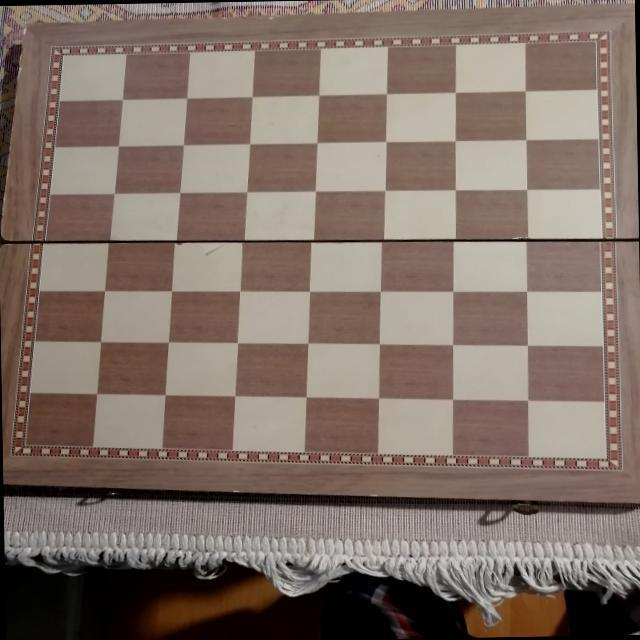corners: (620, 0, 640, 18), (24, 21, 39, 34)
